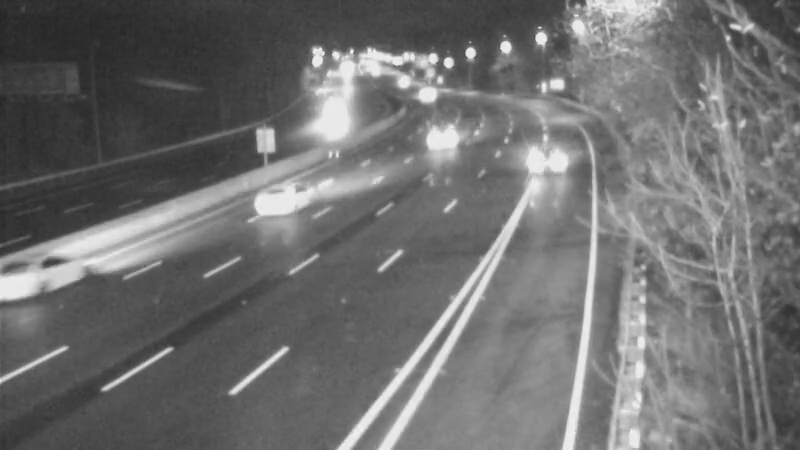vehicle: (508, 124, 588, 204), (231, 169, 311, 249), (1, 242, 72, 322), (398, 69, 448, 119), (417, 113, 467, 163), (307, 100, 357, 150)
